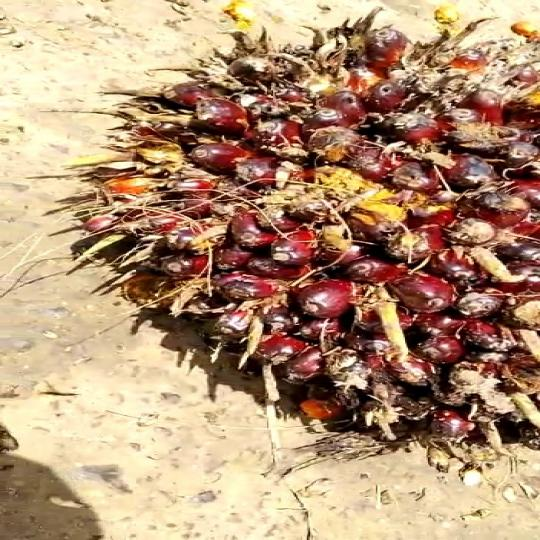masak: (81, 0, 540, 479)
